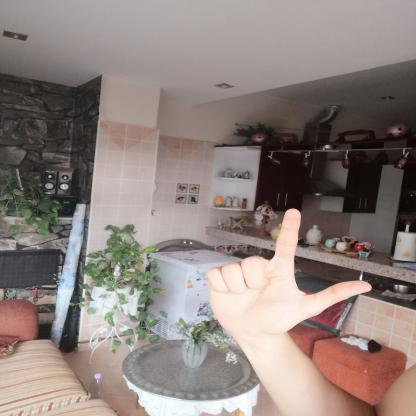LAAM: (196, 200, 381, 345)
